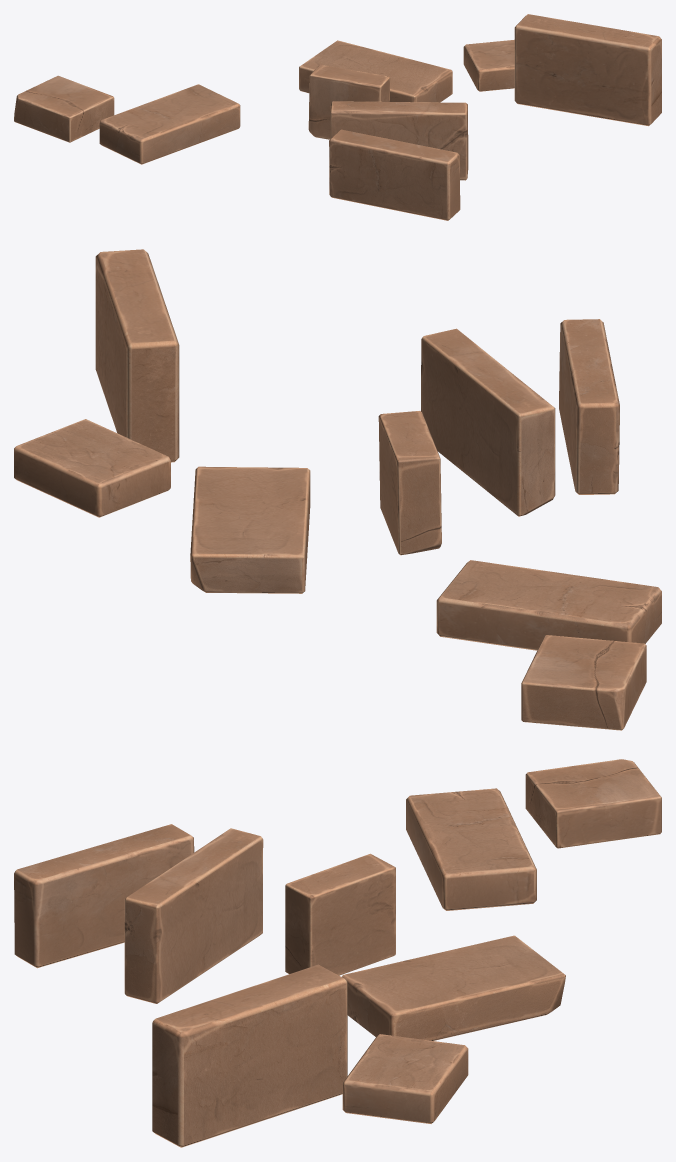
File: SM_Dome_Stair_Broken_02.fbx
3 renders of one model, top to bottom at view 1: azimuth 30°, elevation 25°; view 2: azimuth 150°, elevation 25°; view 3: azimuth 270°, elevation 25°, orthographic. The views are drawn at different scales.
Parts seen in each view (by area): view 1: SM_Dome_Stair_Broken_02_LOD0; view 2: SM_Dome_Stair_Broken_02_LOD0; view 3: SM_Dome_Stair_Broken_02_LOD0.
Boxes of the visible parts, <box> form: SM_Dome_Stair_Broken_02_LOD0: <box>14,14,661,220</box>; SM_Dome_Stair_Broken_02_LOD0: <box>14,249,661,730</box>; SM_Dome_Stair_Broken_02_LOD0: <box>14,759,661,1147</box>.
Size of the model in its own units: 377 by 293 by 57.93.
Materials: 1 (1 with a texture image).
